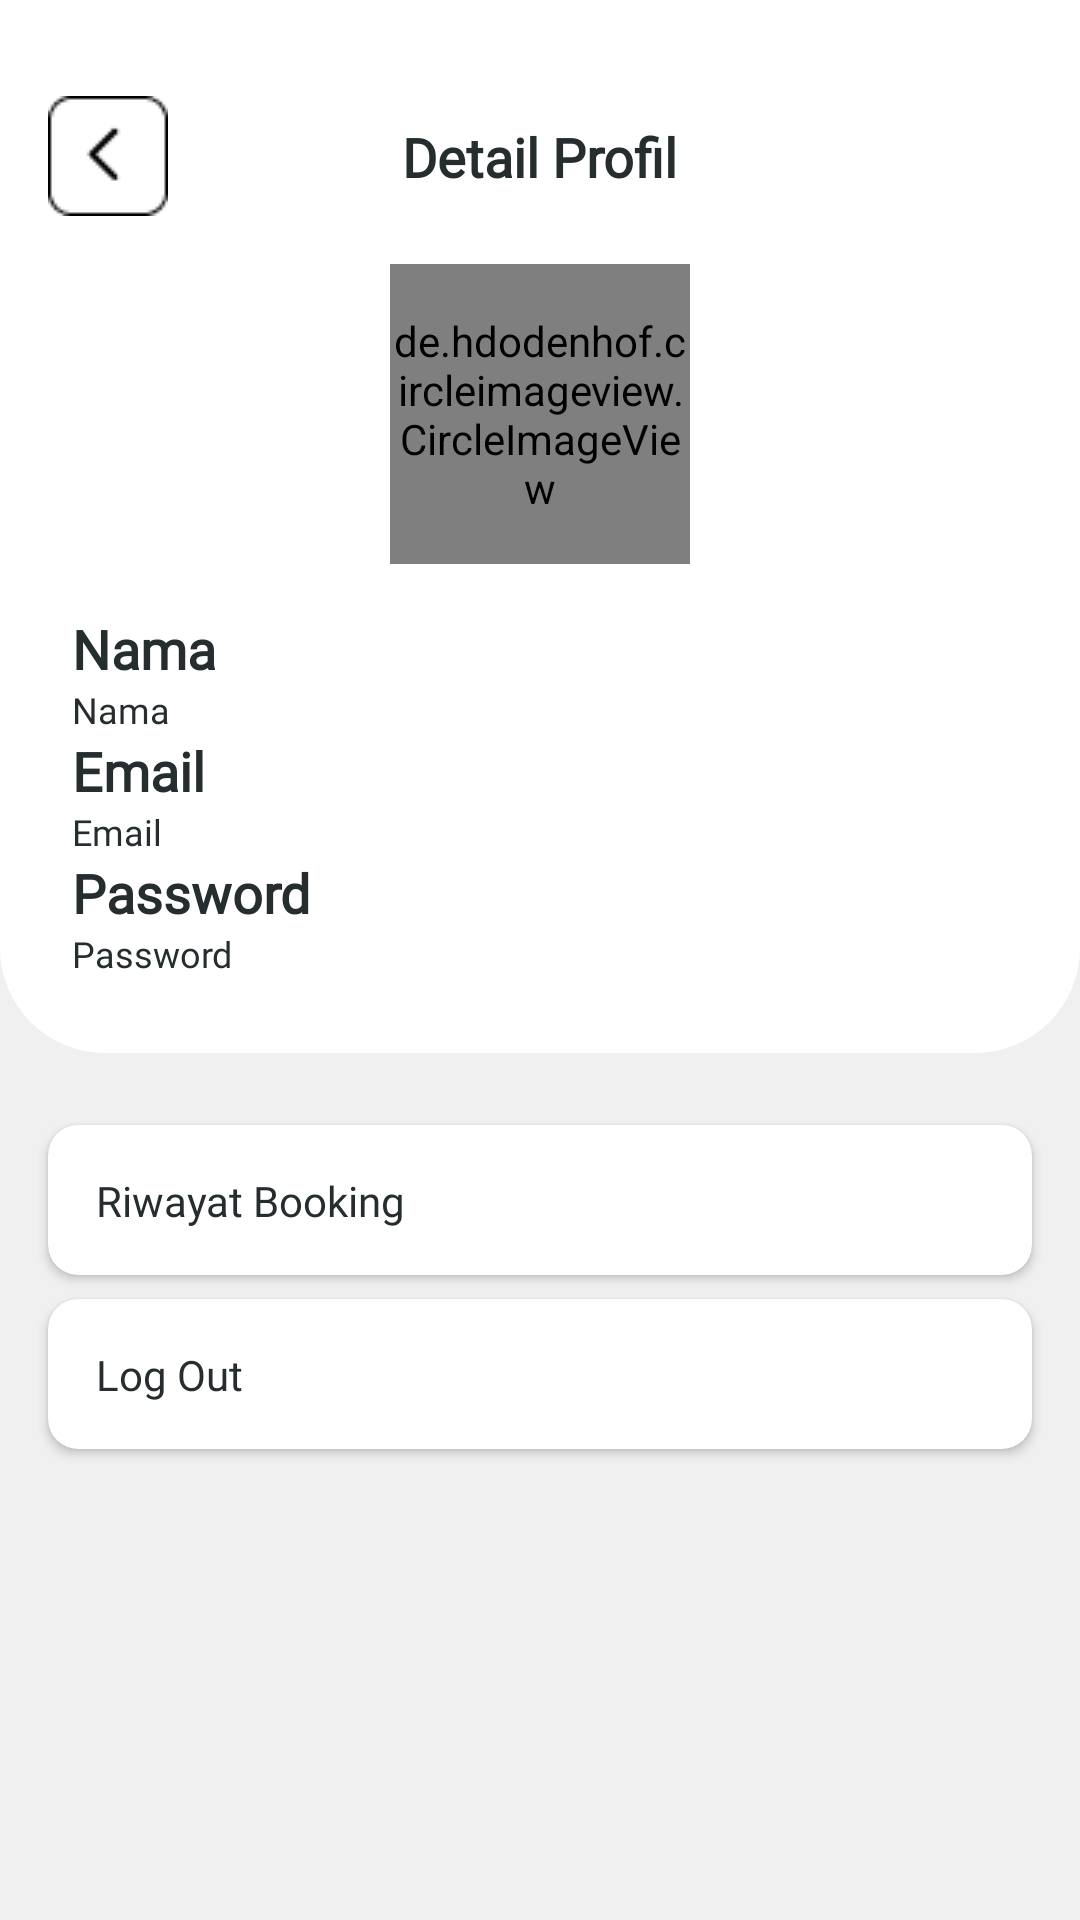

Locate icon controls on the screen. Image size 1080w x 1920h, boxes as {"left": x1, "top": y1, "right": x2, "bottom": y2}.
back: {"left": 48, "top": 96, "right": 168, "bottom": 216}
